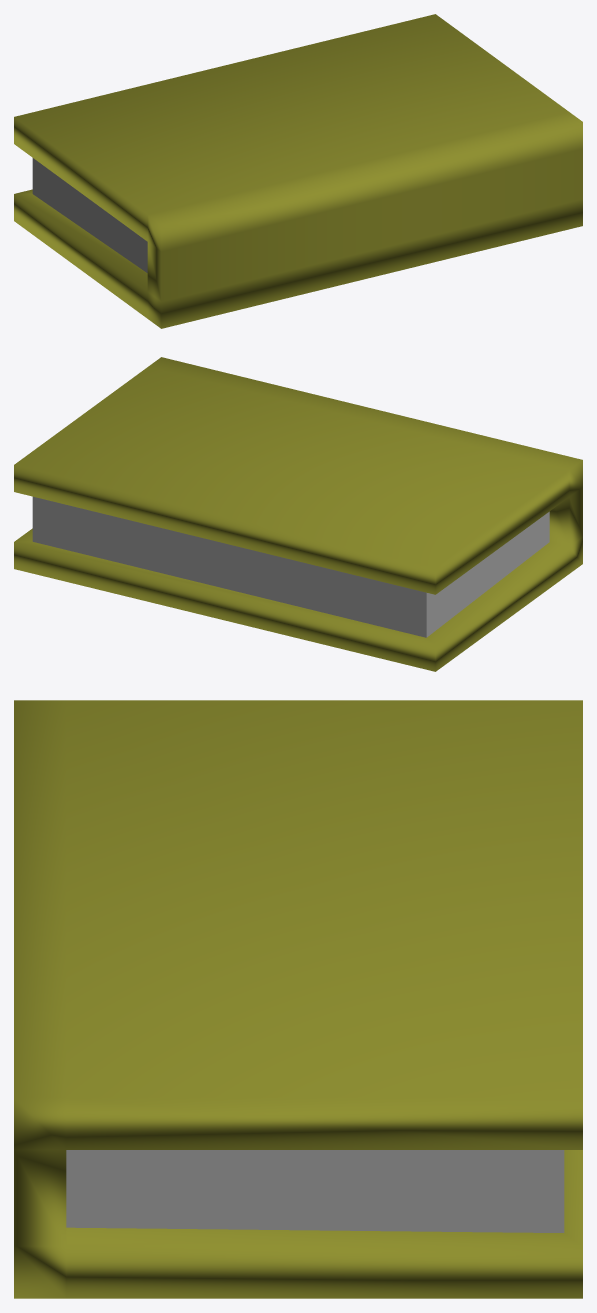
The model's file is YellowBook.fbx.
3 views of the same model, one above another, from view 1: azimuth 30°, elevation 25°; view 2: azimuth 150°, elevation 25°; view 3: azimuth 270°, elevation 25° (orthographic). The views are drawn at different scales.
Visible parts, largest first — view 1: Cube; view 2: Cube; view 3: Cube.
Boxes of the visible parts, x1,y1,x2,y2 form: Cube: (14, 14, 582, 328); Cube: (14, 357, 582, 671); Cube: (14, 700, 582, 1298).
Bounding box in the file's own units: 330 × 77.95 × 200.
